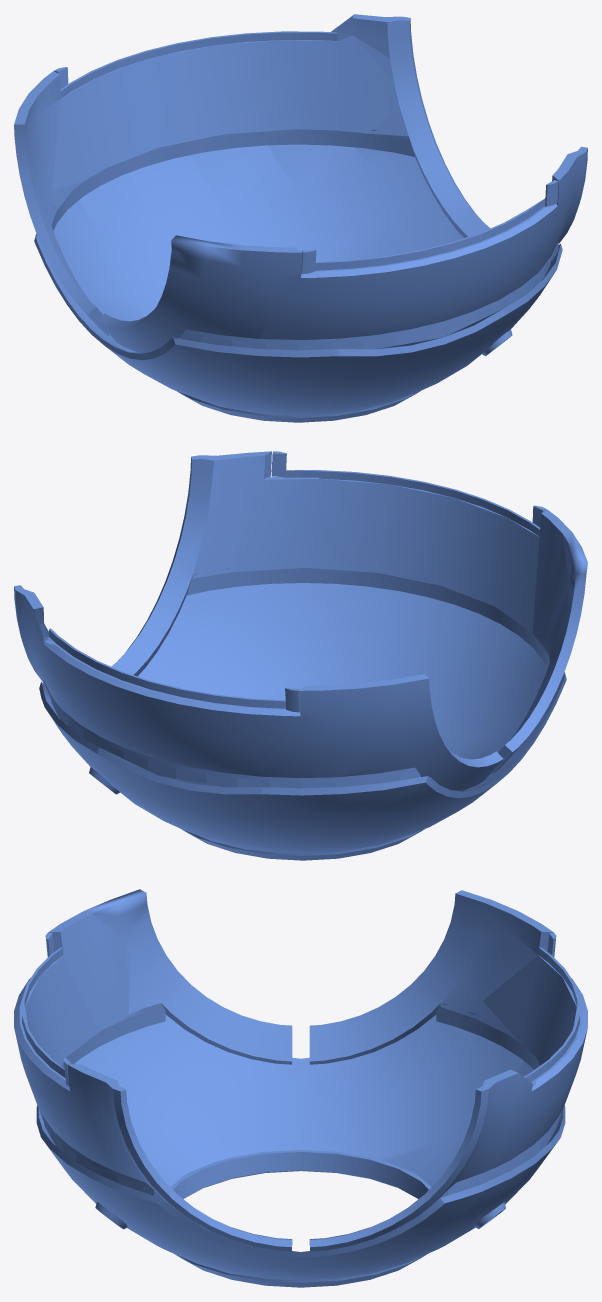
File: chassis_left.obj
The picture shows the model from 3 angles, top to bottom: view 1: azimuth 30°, elevation 25°; view 2: azimuth 150°, elevation 25°; view 3: azimuth 270°, elevation 25°; orthographic projection.
Visible parts, largest first — view 1: personality_sphere_model; view 2: personality_sphere_model; view 3: personality_sphere_model.
Part boxes in pixels (bbox=[...]): personality_sphere_model: bbox=[14, 14, 587, 422]; personality_sphere_model: bbox=[14, 451, 587, 860]; personality_sphere_model: bbox=[14, 889, 587, 1287].
Bounding box in the file's own units: 26.36 × 14.48 × 31.63.
